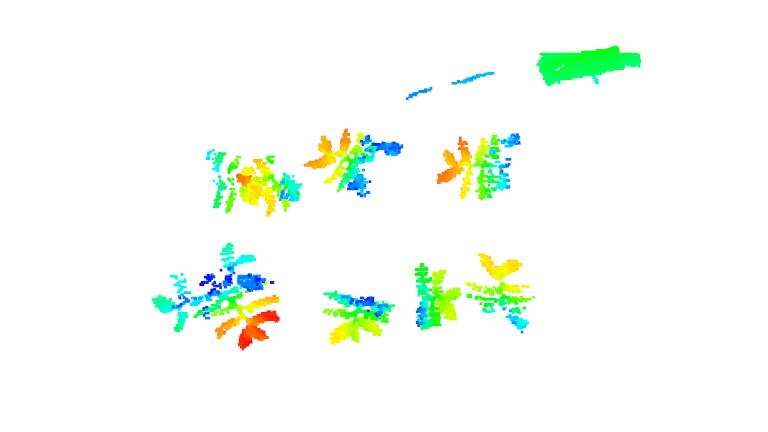chickpea: (154, 243, 281, 351), (304, 127, 406, 198), (207, 147, 303, 216), (434, 130, 523, 198), (463, 252, 534, 334), (319, 285, 395, 346), (411, 262, 462, 330)
